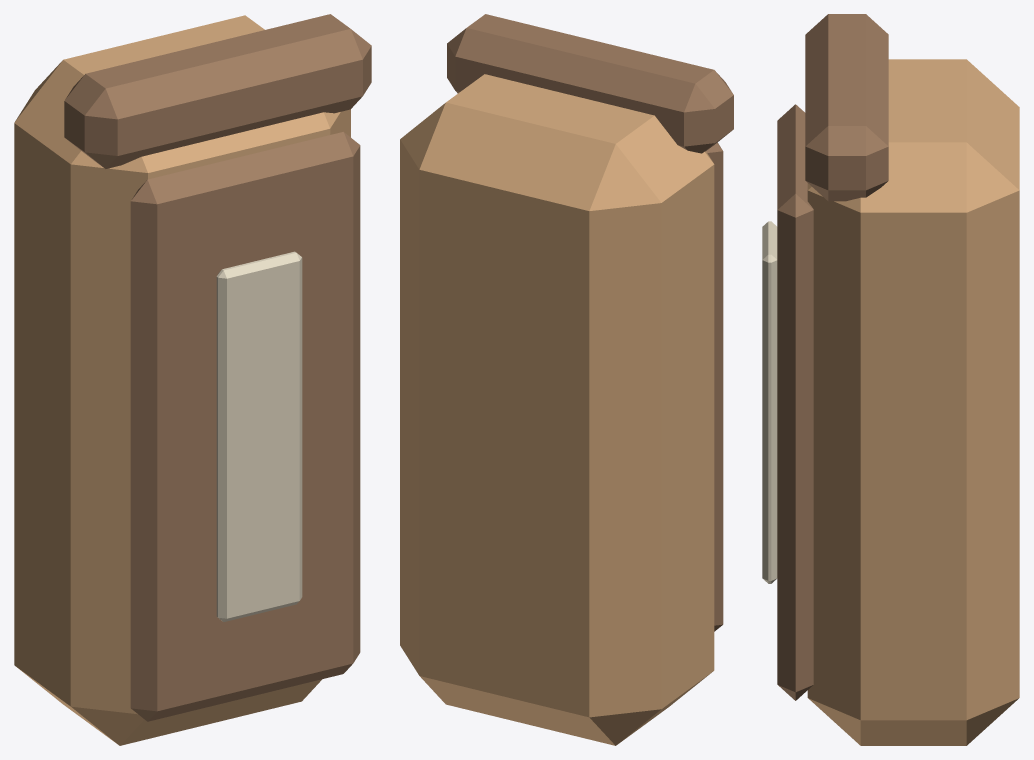
The model's file is FTF_Equipment_WoodLegArmor_Right.glb.
The picture shows the model from 3 angles, left to right: view 1: azimuth 30°, elevation 25°; view 2: azimuth 150°, elevation 25°; view 3: azimuth 270°, elevation 25°; orthographic projection. The views are drawn at different scales.
Parts seen in each view (by area): view 1: ShinOuterRim_R, ShinShell_R, ShinAccent_R, ShinTopCap_R; view 2: ShinShell_R, ShinTopCap_R, ShinOuterRim_R; view 3: ShinShell_R, ShinOuterRim_R, ShinTopCap_R, ShinAccent_R.
Part boxes in pixels (left/top/right/bottom): ShinOuterRim_R: left=130, top=132, right=360, bottom=721; ShinShell_R: left=14, top=15, right=350, bottom=745; ShinAccent_R: left=216, top=251, right=302, bottom=621; ShinTopCap_R: left=64, top=14, right=371, bottom=168; ShinShell_R: left=400, top=74, right=714, bottom=745; ShinTopCap_R: left=447, top=14, right=733, bottom=153; ShinOuterRim_R: left=706, top=142, right=723, bottom=631; ShinShell_R: left=807, top=59, right=1019, bottom=745; ShinOuterRim_R: left=777, top=104, right=813, bottom=700; ShinTopCap_R: left=805, top=14, right=888, bottom=201; ShinAccent_R: left=762, top=221, right=777, bottom=583.
Size of the model in its own units: 0.205 by 0.4625 by 0.17.
